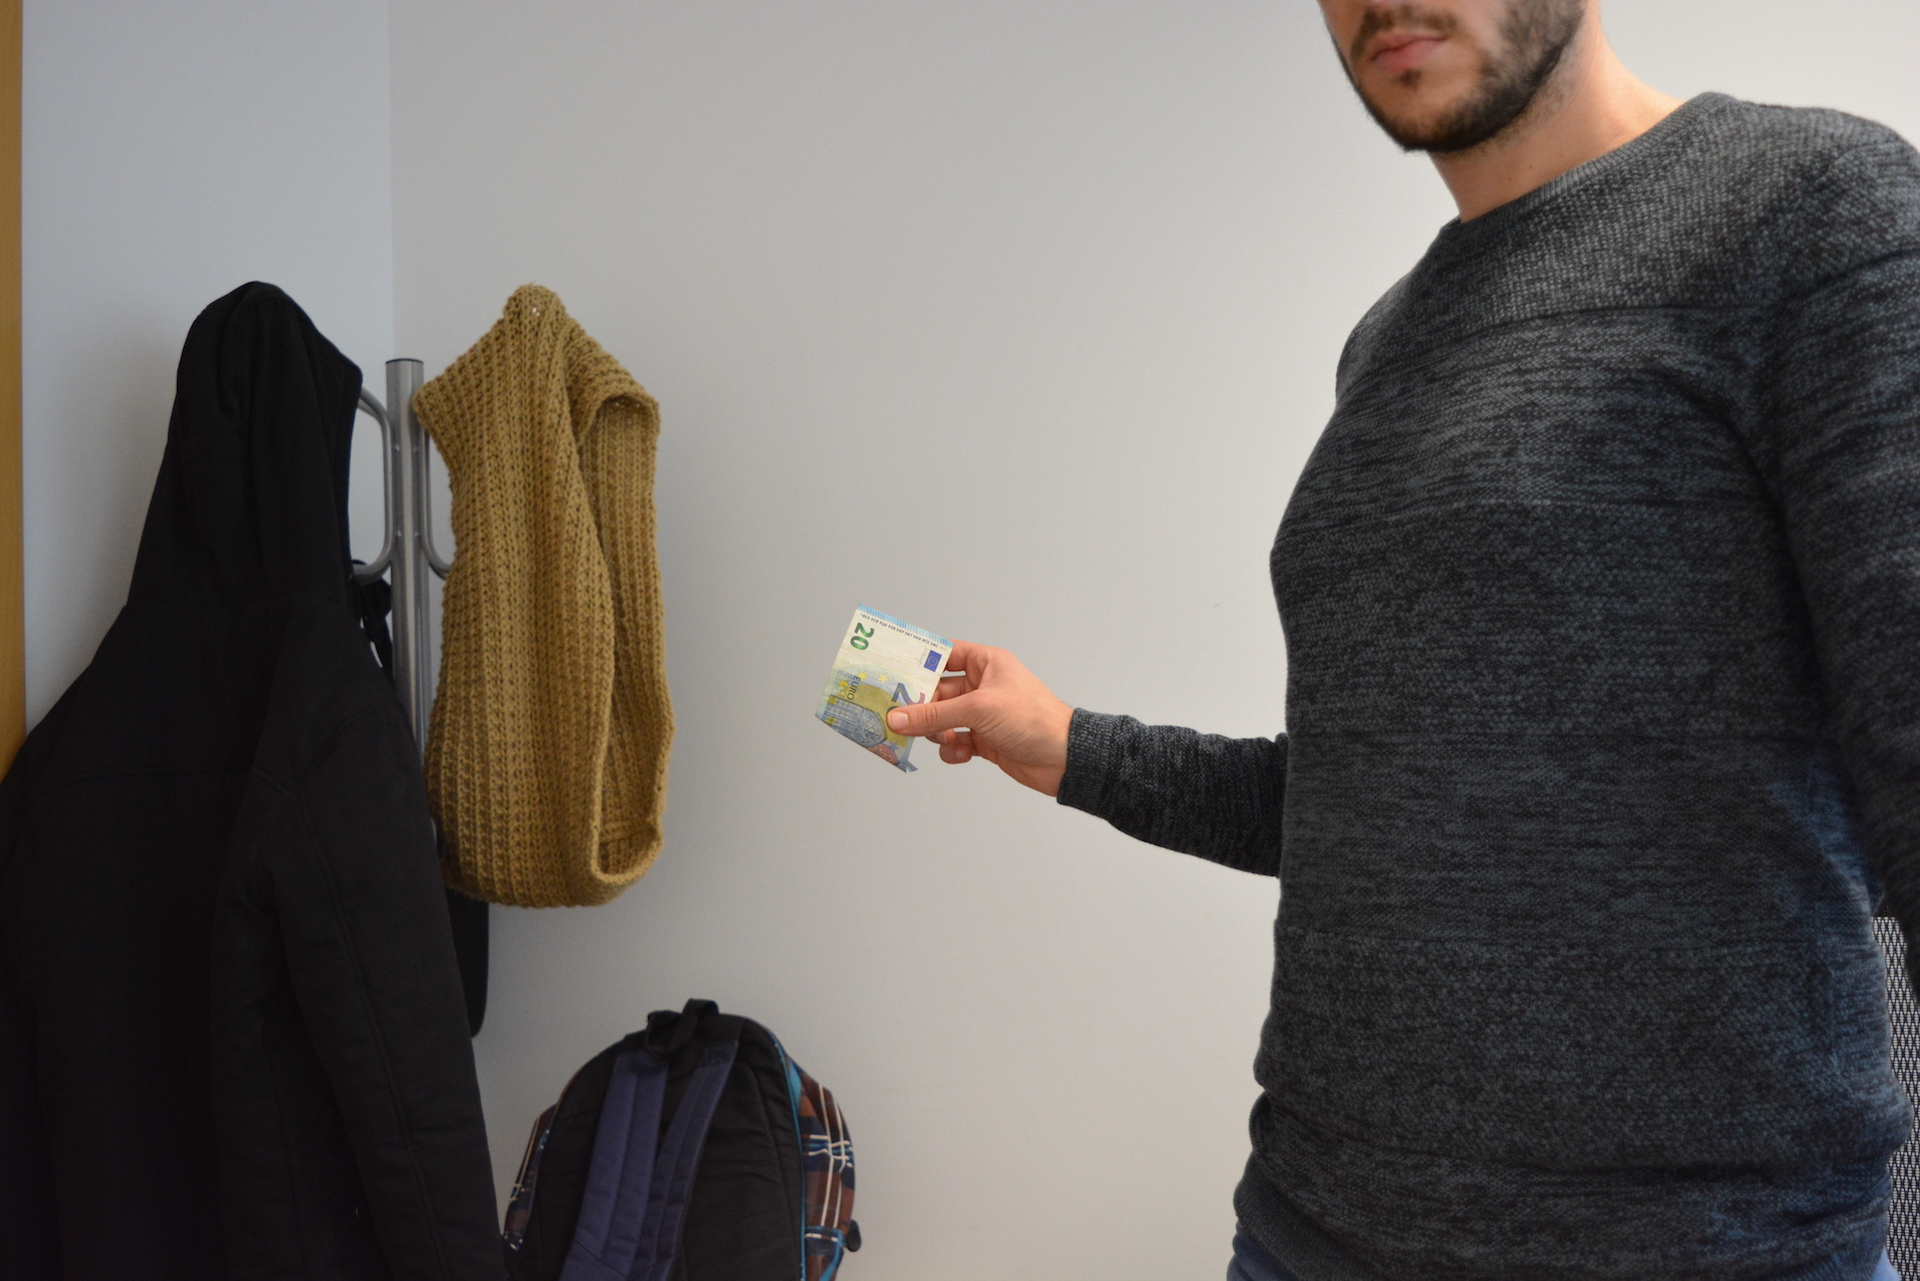billete: (813, 602, 956, 773)
